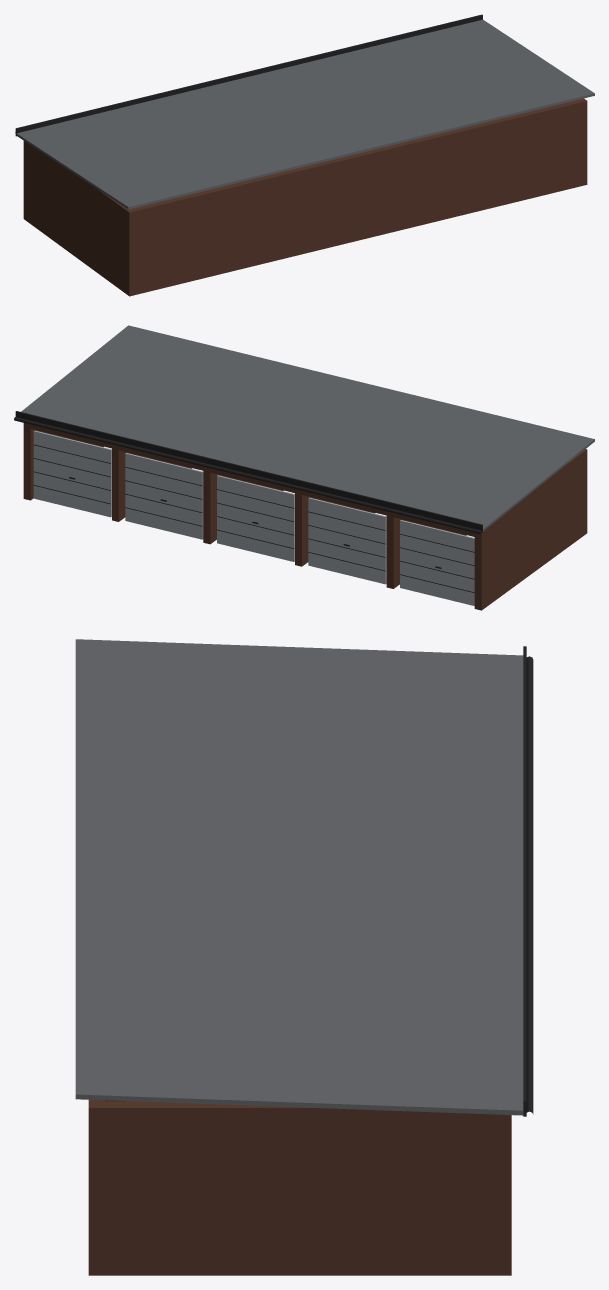
The model's file is GARAGE_ROW.glb.
3 views of the same model, one above another, from view 1: azimuth 30°, elevation 25°; view 2: azimuth 150°, elevation 25°; view 3: azimuth 270°, elevation 25° (orthographic). The views are drawn at different scales.
Visible parts, largest first — view 1: propBrick_0, roofMetal_3, tread_2; view 2: roofMetal_3, steel_1, propBrick_0, tread_2; view 3: roofMetal_3, propBrick_0, tread_2.
Boxes of the visible parts, box(x1,y1,x2,y2) form: propBrick_0: box(23, 98, 587, 296); roofMetal_3: box(16, 19, 594, 209); tread_2: box(15, 14, 482, 136); roofMetal_3: box(21, 325, 594, 531); steel_1: box(33, 430, 474, 605); propBrick_0: box(23, 423, 587, 610); tread_2: box(14, 411, 482, 592); roofMetal_3: box(75, 639, 524, 1115); propBrick_0: box(88, 1099, 511, 1275); tread_2: box(523, 646, 533, 1116).
Size of the model in its own units: 16.3 by 3.1 by 6.93.
